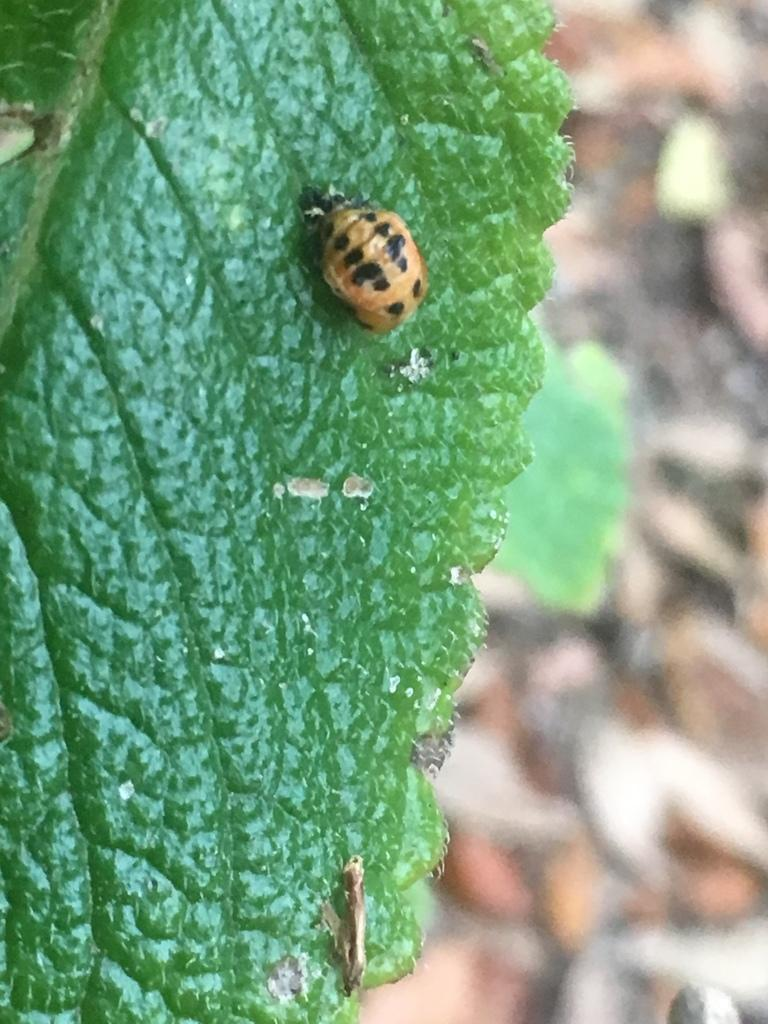ladybug: (296, 186, 433, 334)
